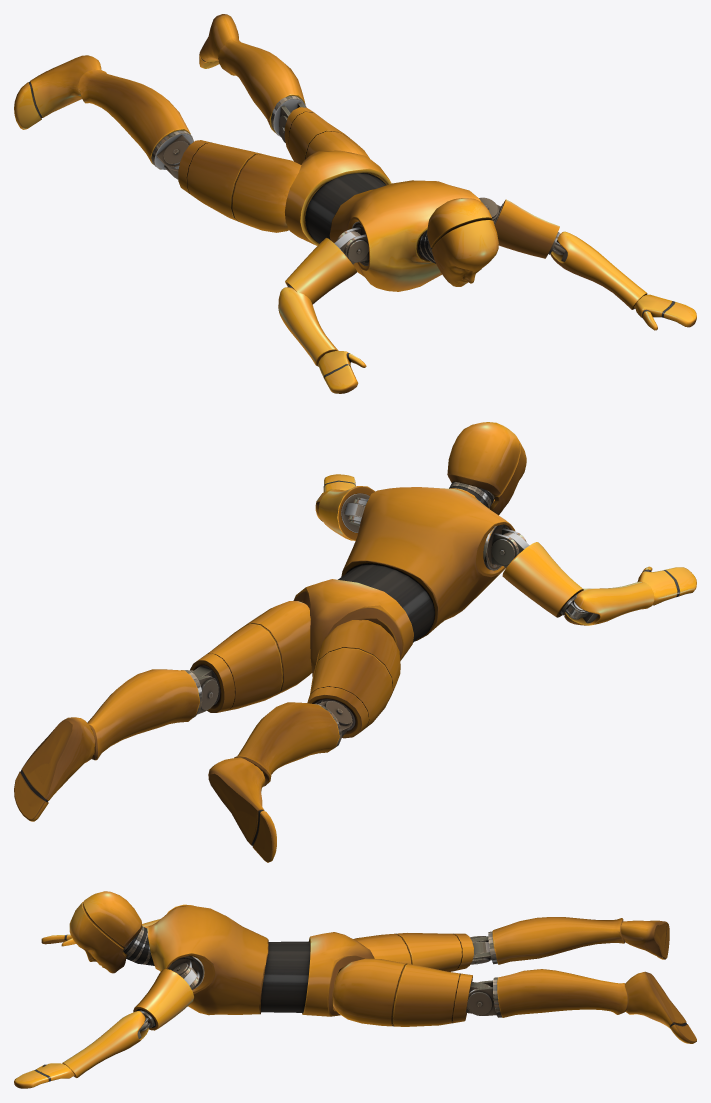
File: Survivor Male.dae
The picture shows the model from 3 angles, top to bottom: view 1: azimuth 30°, elevation 25°; view 2: azimuth 150°, elevation 25°; view 3: azimuth 270°, elevation 25°; orthographic projection. The views are drawn at different scales.
Visible parts, largest first — view 1: Survivor_Male; view 2: Survivor_Male; view 3: Survivor_Male.
Boxes of the visible parts, x1,y1,x2,y2 form: Survivor_Male: (14, 14, 696, 393); Survivor_Male: (14, 422, 696, 862); Survivor_Male: (14, 891, 696, 1088).
Bounding box in the file's own units: 105 × 203 × 38.75.
